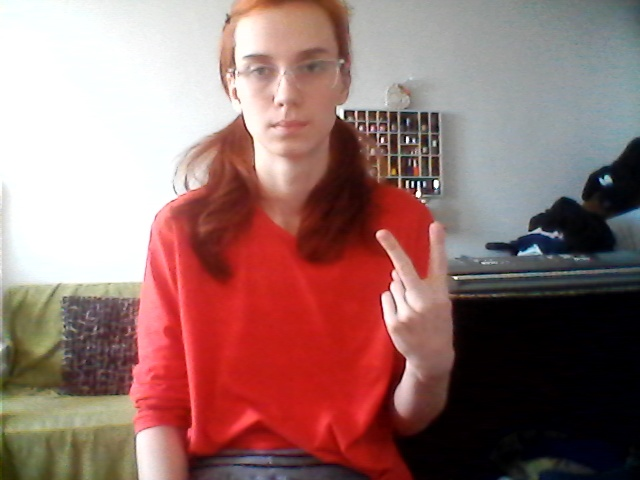v: (357, 217, 472, 374)
